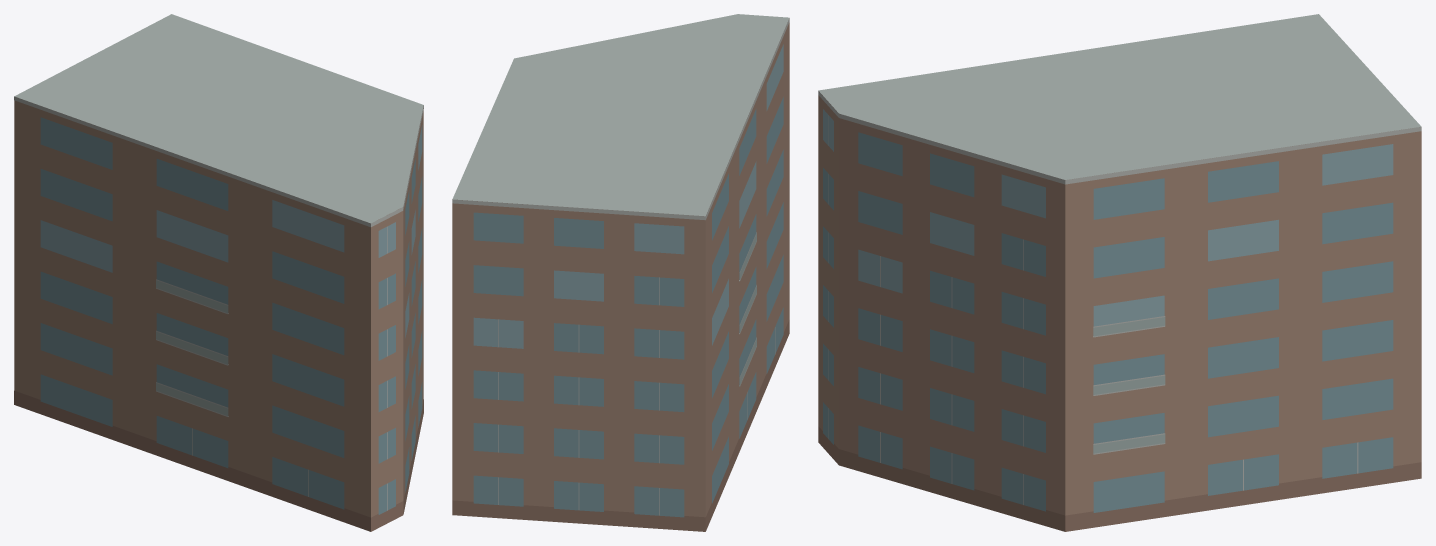
The model's file is survey-upis-32855406.glb.
3 views of the same model, side by side, from view 1: azimuth 30°, elevation 25°; view 2: azimuth 150°, elevation 25°; view 3: azimuth 270°, elevation 25° (orthographic). The views are drawn at different scales.
Parts seen in each view (by area): view 1: survey-upis-32855406.tmp; view 2: survey-upis-32855406.tmp; view 3: survey-upis-32855406.tmp.
Boxes of the visible parts, left/top/right/bottom form: survey-upis-32855406.tmp: left=14, top=14, right=423, bottom=531; survey-upis-32855406.tmp: left=452, top=14, right=789, bottom=531; survey-upis-32855406.tmp: left=818, top=14, right=1421, bottom=531.
Bounding box in the file's own units: 19.65 × 19.4 × 30.16.
